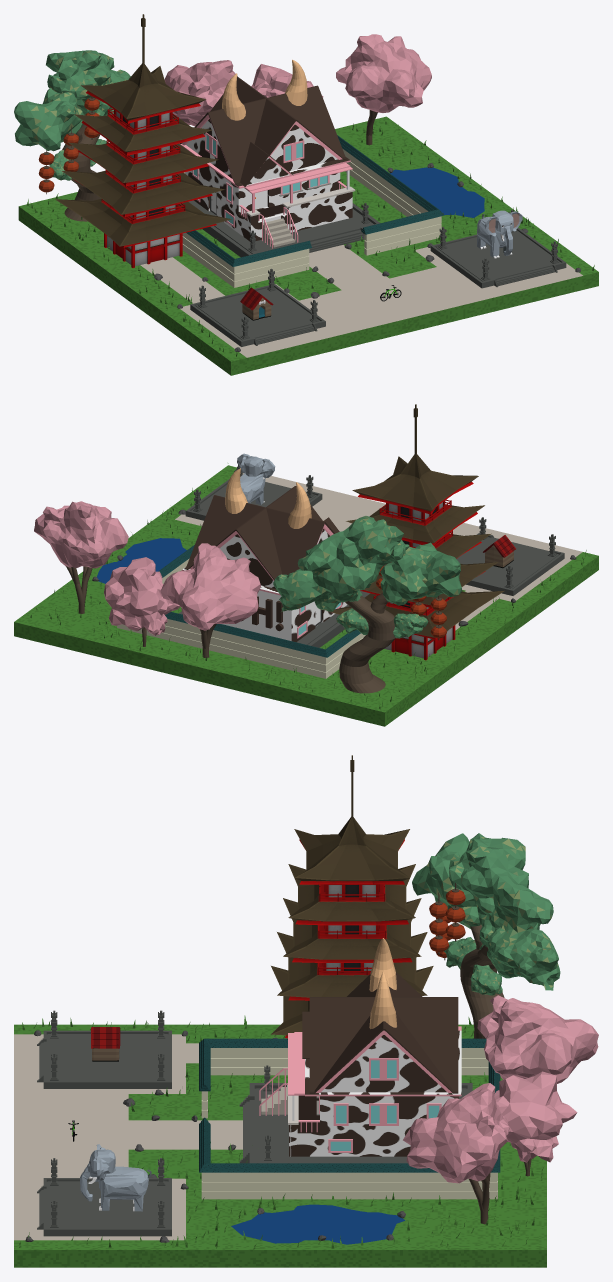
3 views of the same model, one above another, from view 1: azimuth 30°, elevation 25°; view 2: azimuth 150°, elevation 25°; view 3: azimuth 270°, elevation 25° (orthographic). The views are drawn at different scales.
Visible parts, largest first — view 1: Cube.005, Cube.1242, ANIMAL_ELEFANTE, OBJRANDOM_DOGHOUSE; view 2: Cube.005, Cube.1242, ANIMAL_ELEFANTE, OBJRANDOM_DOGHOUSE; view 3: Cube.005, Cube.1242, ANIMAL_ELEFANTE, OBJRANDOM_DOGHOUSE.
Boxes of the visible parts, left/top/right/bottom form: Cube.005: left=14, top=14, right=598, bottom=375; Cube.1242: left=179, top=59, right=355, bottom=248; ANIMAL_ELEFANTE: left=477, top=210, right=522, bottom=258; OBJRANDOM_DOGHOUSE: left=240, top=287, right=273, bottom=320; Cube.005: left=14, top=404, right=598, bottom=726; Cube.1242: left=181, top=468, right=347, bottom=642; ANIMAL_ELEFANTE: left=237, top=453, right=275, bottom=504; OBJRANDOM_DOGHOUSE: left=483, top=535, right=515, bottom=568; Cube.005: left=14, top=755, right=598, bottom=1267; Cube.1242: left=259, top=938, right=461, bottom=1156; ANIMAL_ELEFANTE: left=80, top=1144, right=151, bottom=1211; OBJRANDOM_DOGHOUSE: left=90, top=1027, right=120, bottom=1061.
Bounding box in the file's own units: 4528 × 2706 × 4389.
46 materials, 5 textured.
